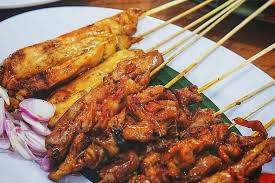sate: (4, 7, 275, 181)
